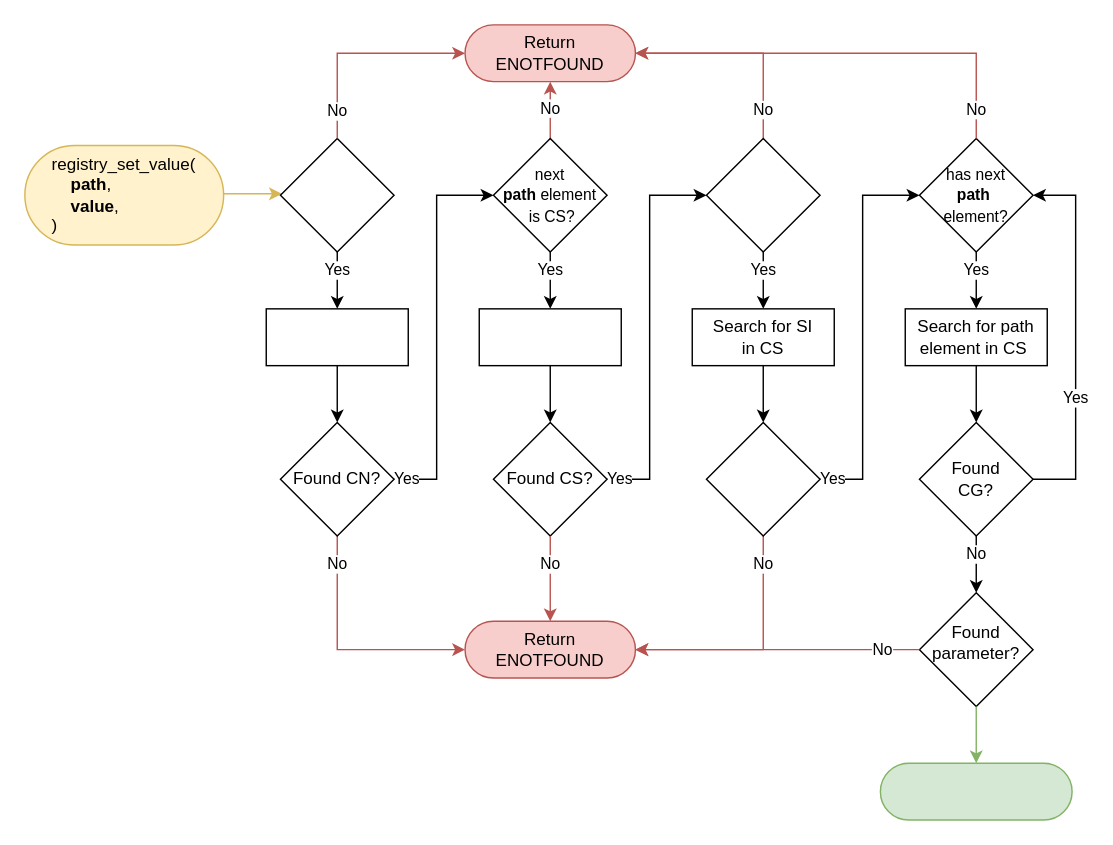
The diagram is 1113 pixels wide and 845 high, and some of its shapes have lost their labels. The shapes that lost their labels are listed below. From the top down, each one's centre as x and y in pixels, then its label:
(x=336, y=194): first path element is CN?
(x=762, y=194): next path element is SI?
(x=336, y=336): Search for CN
(x=549, y=336): Search for CS in CN
(x=762, y=478): Found SI?
(x=975, y=791): Set parameter value of SI to new value
